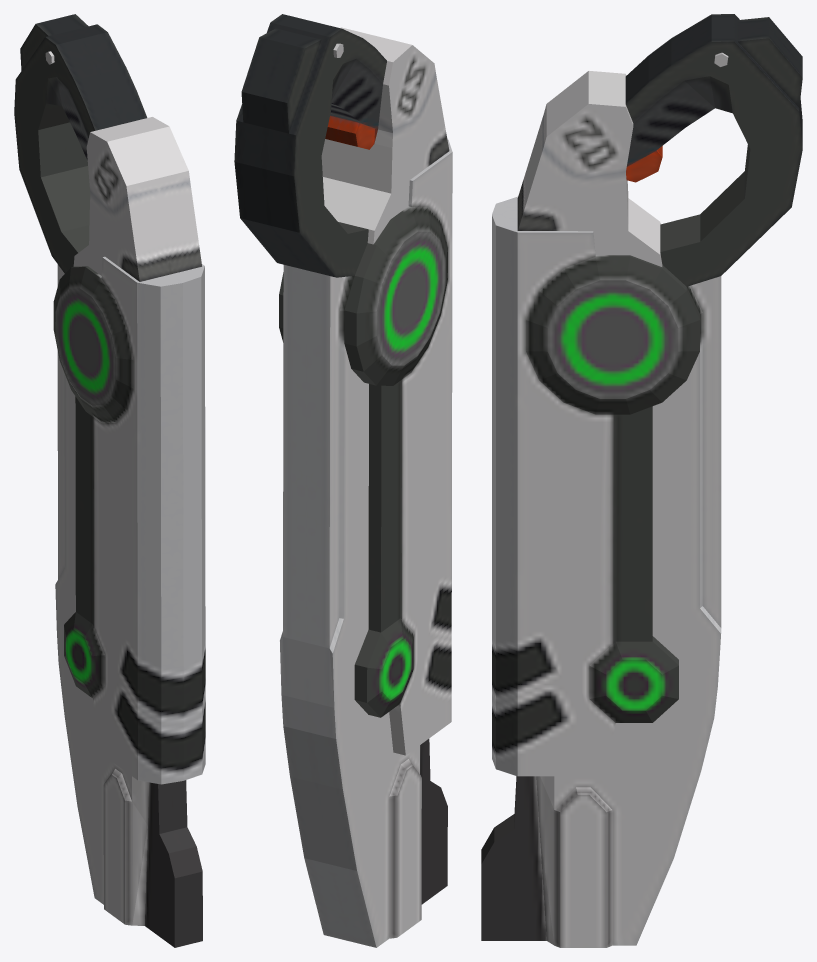
The model's file is changqiang_01.FBX.
The picture shows the model from 3 angles, left to right: view 1: azimuth 30°, elevation 25°; view 2: azimuth 150°, elevation 25°; view 3: azimuth 270°, elevation 25°; orthographic projection. The views are drawn at different scales.
Visible parts, largest first — view 1: Object003; view 2: Object003; view 3: Object003.
Boxes of the visible parts, x1,y1,x2,y2 form: Object003: (14, 14, 205, 947); Object003: (234, 14, 452, 947); Object003: (481, 14, 802, 947).
Size of the model in its own units: 0.1151 by 1.1 by 0.3532.
